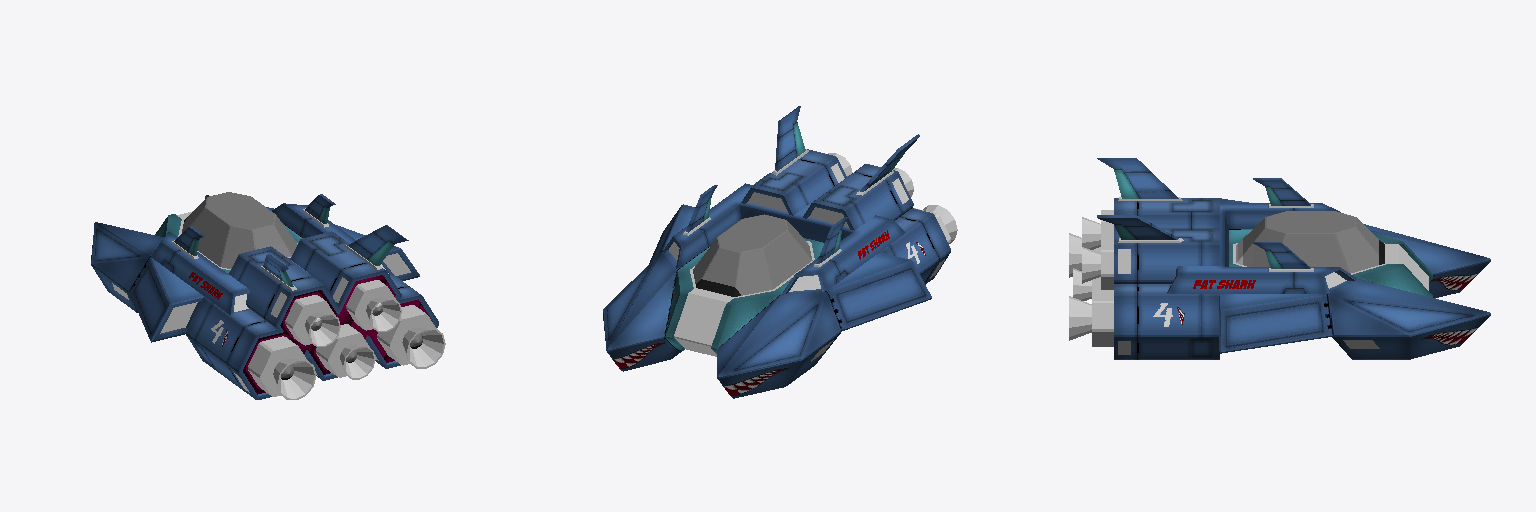
The picture shows the model from 3 angles: view 1: azimuth 30°, elevation 25°; view 2: azimuth 150°, elevation 25°; view 3: azimuth 270°, elevation 25°; orthographic projection.
Visible parts, largest first — view 1: 31_fatshark_a; view 2: 31_fatshark_a; view 3: 31_fatshark_a.
Boxes of the visible parts, x1,y1,x2,y2 form: 31_fatshark_a: [91, 192, 445, 399]; 31_fatshark_a: [603, 106, 957, 398]; 31_fatshark_a: [1069, 158, 1490, 359].
Size of the model in its own units: 3.65 by 1.79 by 4.95.
23 materials, 9 textured.